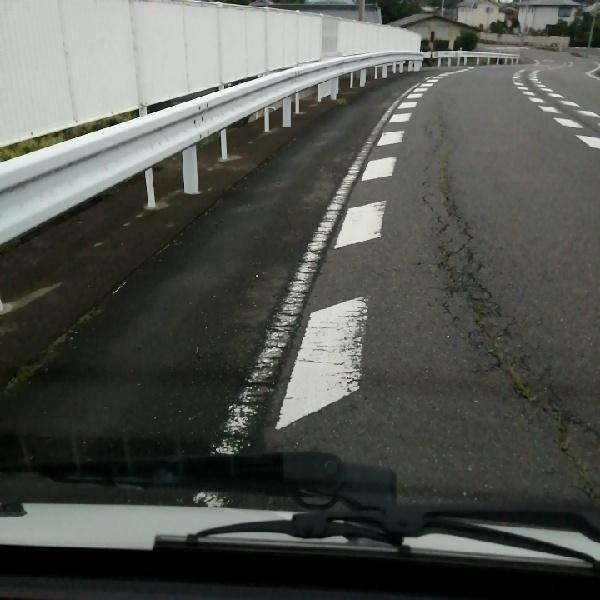D20: (380, 120, 599, 481)
